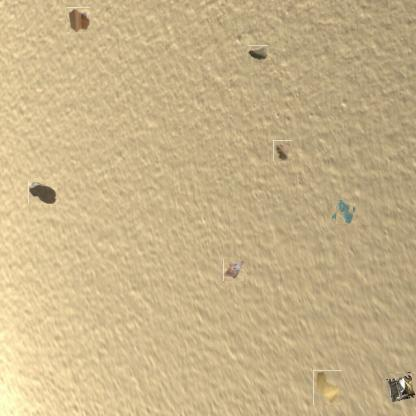dirty: (313, 370, 342, 405), (384, 372, 416, 402), (66, 7, 90, 32), (223, 260, 244, 281), (273, 140, 292, 161), (246, 45, 268, 60)
liquid: (28, 180, 57, 204), (333, 202, 355, 223)
